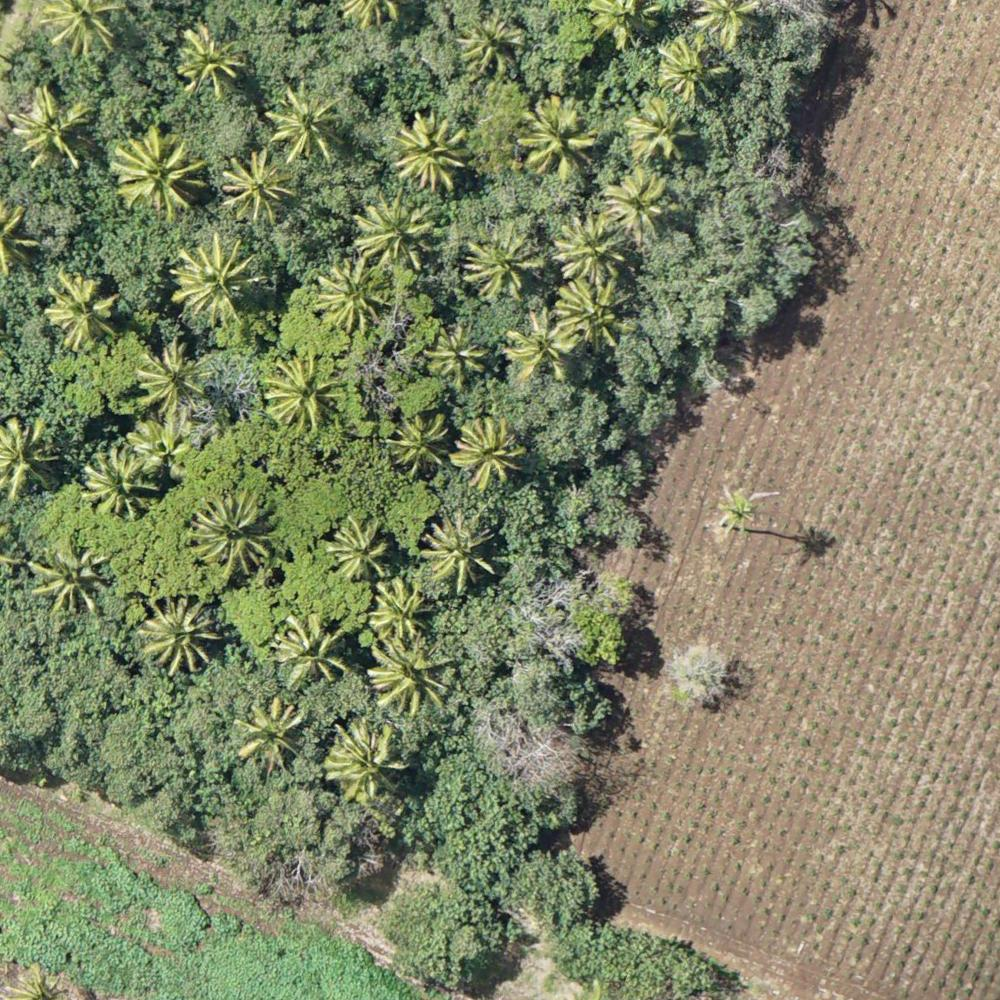not plam: (7, 863, 80, 936), (8, 769, 81, 841), (210, 827, 286, 896), (115, 807, 194, 872), (537, 395, 610, 465), (528, 502, 599, 572), (117, 709, 191, 776), (829, 900, 903, 967), (104, 913, 179, 979), (674, 264, 747, 331), (616, 934, 691, 999), (330, 929, 408, 991), (467, 719, 537, 788), (2, 673, 74, 740), (669, 643, 737, 712), (472, 614, 542, 681), (519, 867, 588, 934), (425, 807, 491, 877), (275, 461, 345, 527), (225, 929, 295, 994), (703, 178, 773, 243), (420, 912, 488, 978), (671, 781, 741, 845), (52, 191, 119, 256), (347, 37, 416, 100), (119, 527, 189, 589), (727, 84, 797, 146), (53, 360, 119, 424), (647, 345, 716, 404)
